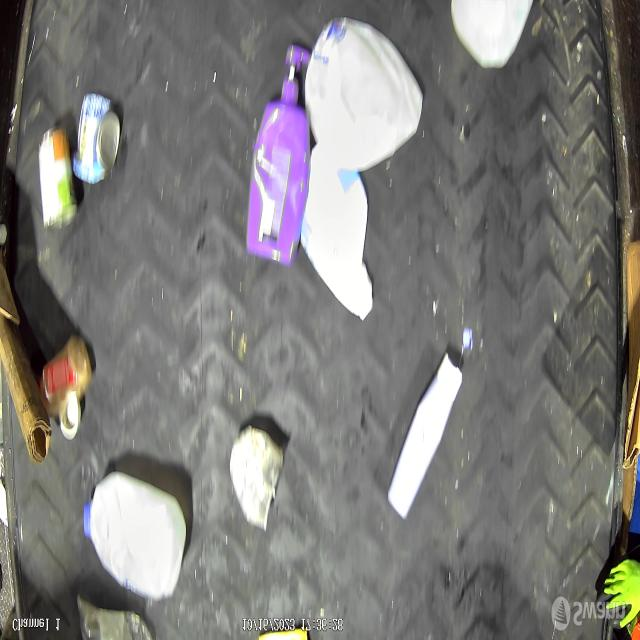can: (72, 88, 116, 190), (230, 436, 281, 523), (37, 132, 76, 224)
milk_jug: (308, 11, 414, 183), (78, 488, 182, 596)
non_white_jug: (245, 51, 315, 256)
